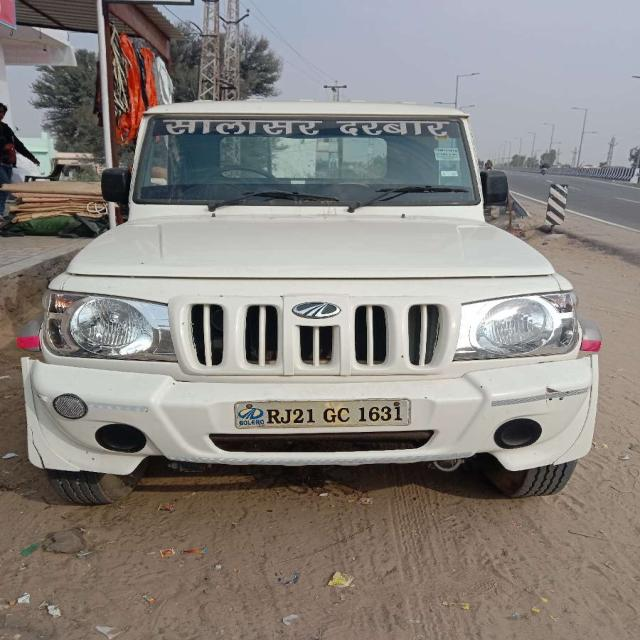light_vehicle: (38, 109, 593, 469)
